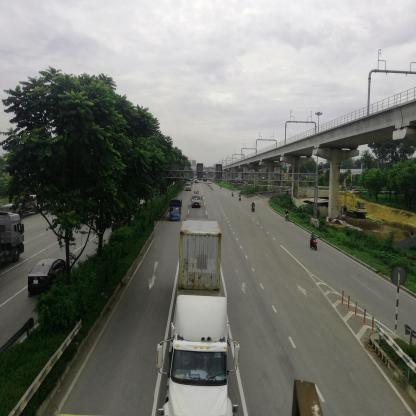car: (29, 259, 67, 299)
container: (155, 222, 228, 416)
motorbike: (311, 236, 320, 252), (285, 208, 291, 224), (251, 204, 256, 214)
truck: (170, 202, 183, 223), (193, 194, 202, 209)
